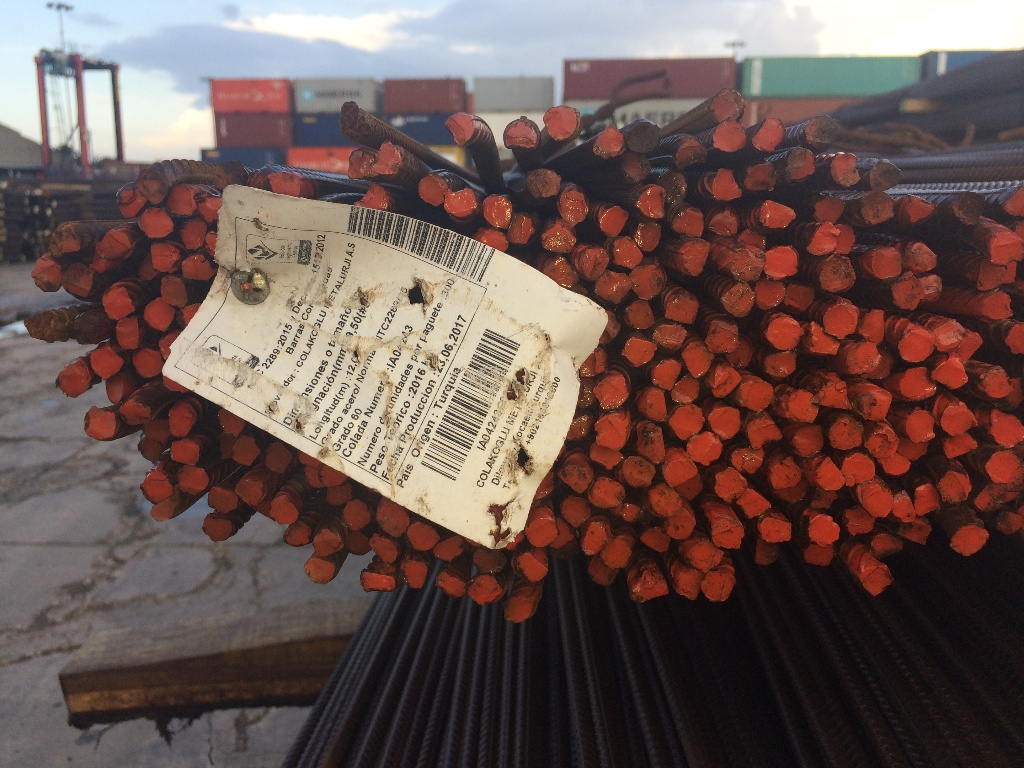dipstick: (664, 459, 704, 499), (854, 481, 893, 518), (950, 520, 989, 556), (823, 302, 860, 339), (854, 384, 891, 421), (56, 358, 90, 398), (544, 105, 580, 142), (592, 373, 629, 409), (669, 405, 705, 442), (783, 387, 818, 425), (984, 448, 1022, 483), (855, 564, 896, 596), (819, 255, 854, 292), (594, 413, 628, 451), (891, 272, 924, 311), (630, 265, 665, 301), (729, 246, 765, 281), (845, 341, 880, 377), (899, 328, 934, 364), (859, 192, 895, 227), (766, 317, 803, 351), (630, 573, 669, 605), (828, 416, 863, 451), (49, 218, 83, 254), (710, 514, 744, 550), (932, 356, 968, 390), (988, 230, 1024, 264), (683, 542, 723, 572), (592, 126, 626, 161), (687, 432, 722, 466), (97, 230, 133, 263), (590, 477, 626, 510), (84, 405, 117, 441), (714, 468, 747, 504), (938, 468, 969, 506), (941, 400, 975, 434), (752, 119, 787, 152), (101, 288, 137, 320), (62, 262, 94, 298), (954, 188, 984, 226), (149, 240, 182, 274), (525, 515, 558, 549), (869, 246, 902, 280), (515, 552, 550, 584), (766, 245, 798, 280), (739, 380, 774, 412), (841, 452, 876, 484), (868, 161, 903, 193), (747, 418, 783, 449), (681, 240, 711, 277), (830, 153, 860, 190), (502, 120, 540, 149), (756, 203, 794, 232), (91, 347, 124, 380), (624, 456, 657, 489), (139, 470, 172, 503), (708, 406, 741, 439), (790, 424, 823, 457), (433, 567, 466, 600), (982, 366, 1015, 399), (579, 245, 611, 279), (665, 294, 699, 326), (417, 174, 451, 206), (706, 321, 740, 353), (647, 486, 681, 518), (808, 512, 840, 546), (865, 426, 899, 458), (31, 257, 62, 292), (558, 191, 589, 226), (558, 462, 593, 493), (483, 193, 513, 229), (714, 121, 747, 153), (721, 283, 753, 316), (662, 507, 695, 539), (140, 207, 174, 238), (770, 455, 801, 489), (702, 571, 736, 602), (468, 575, 503, 605), (912, 482, 942, 517), (627, 122, 659, 154), (407, 521, 438, 554), (905, 410, 936, 443), (138, 170, 168, 204), (443, 188, 478, 217), (542, 225, 577, 254), (713, 167, 742, 202), (621, 337, 657, 365), (445, 112, 475, 145), (528, 167, 561, 197), (599, 204, 629, 237), (785, 147, 815, 180), (784, 281, 814, 314), (637, 389, 667, 422), (981, 290, 1014, 320), (176, 467, 210, 496), (671, 208, 705, 237), (637, 186, 666, 219), (372, 142, 401, 175), (168, 183, 196, 217), (360, 568, 396, 594), (613, 238, 643, 269), (625, 299, 655, 330), (601, 539, 631, 570), (814, 194, 845, 224), (710, 366, 739, 398), (903, 193, 935, 222), (160, 275, 188, 308), (808, 222, 836, 255), (653, 324, 686, 352), (732, 446, 765, 474), (738, 490, 771, 518), (684, 341, 710, 376), (651, 358, 680, 389), (401, 559, 430, 590), (313, 529, 343, 558), (232, 436, 261, 466), (134, 349, 164, 378), (756, 279, 785, 309), (343, 499, 371, 530), (759, 518, 792, 544), (265, 443, 292, 474), (181, 219, 207, 251), (201, 517, 233, 543), (271, 496, 299, 525), (171, 440, 200, 468), (119, 187, 146, 217), (115, 319, 141, 350), (893, 490, 916, 525), (167, 405, 191, 438), (583, 520, 606, 554), (304, 558, 335, 583), (237, 479, 265, 506), (209, 488, 238, 514), (120, 402, 151, 426), (709, 213, 738, 237)
